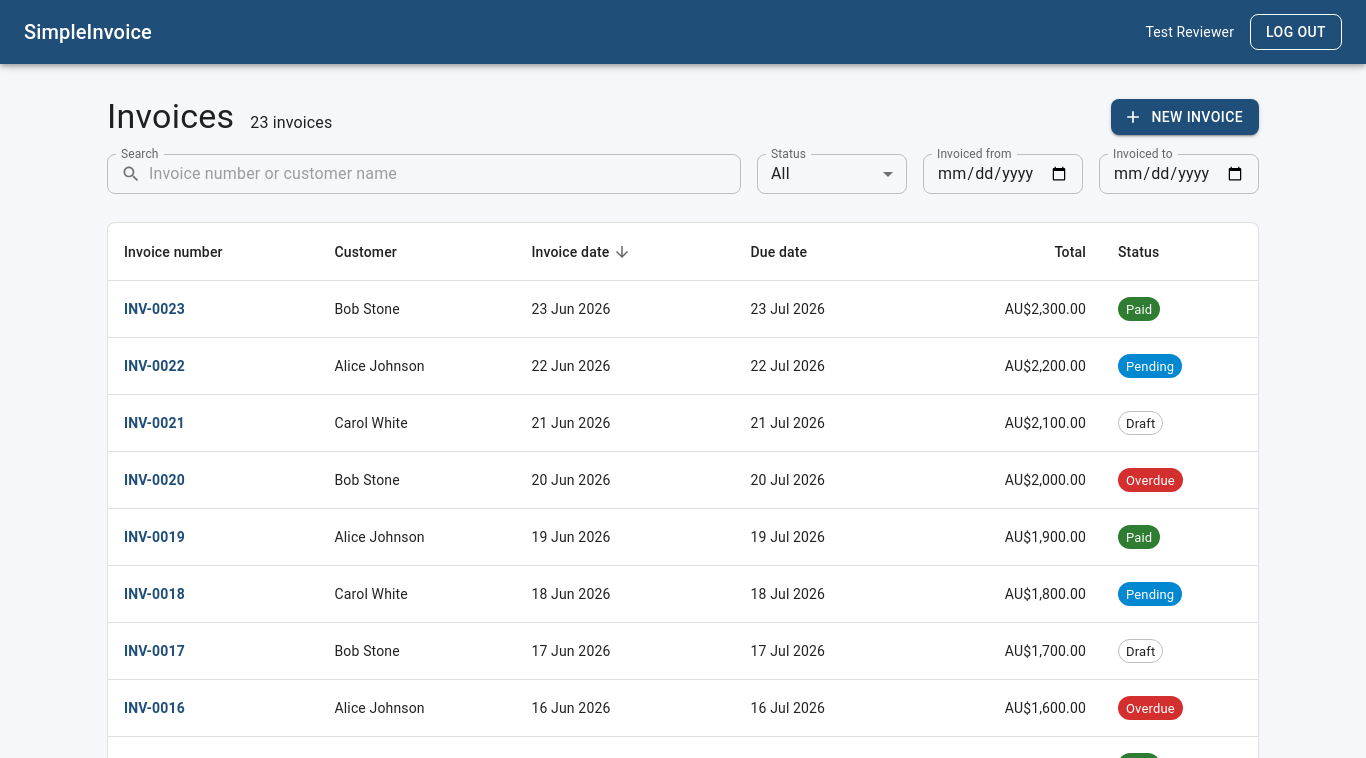
InvoiceListPage › status filter › filters by Draft
Expected: the heading "Invoices" is shown, [107,96,234,138]
Click the dropdown named "Status" at (780, 174), box [771,164,790,184]
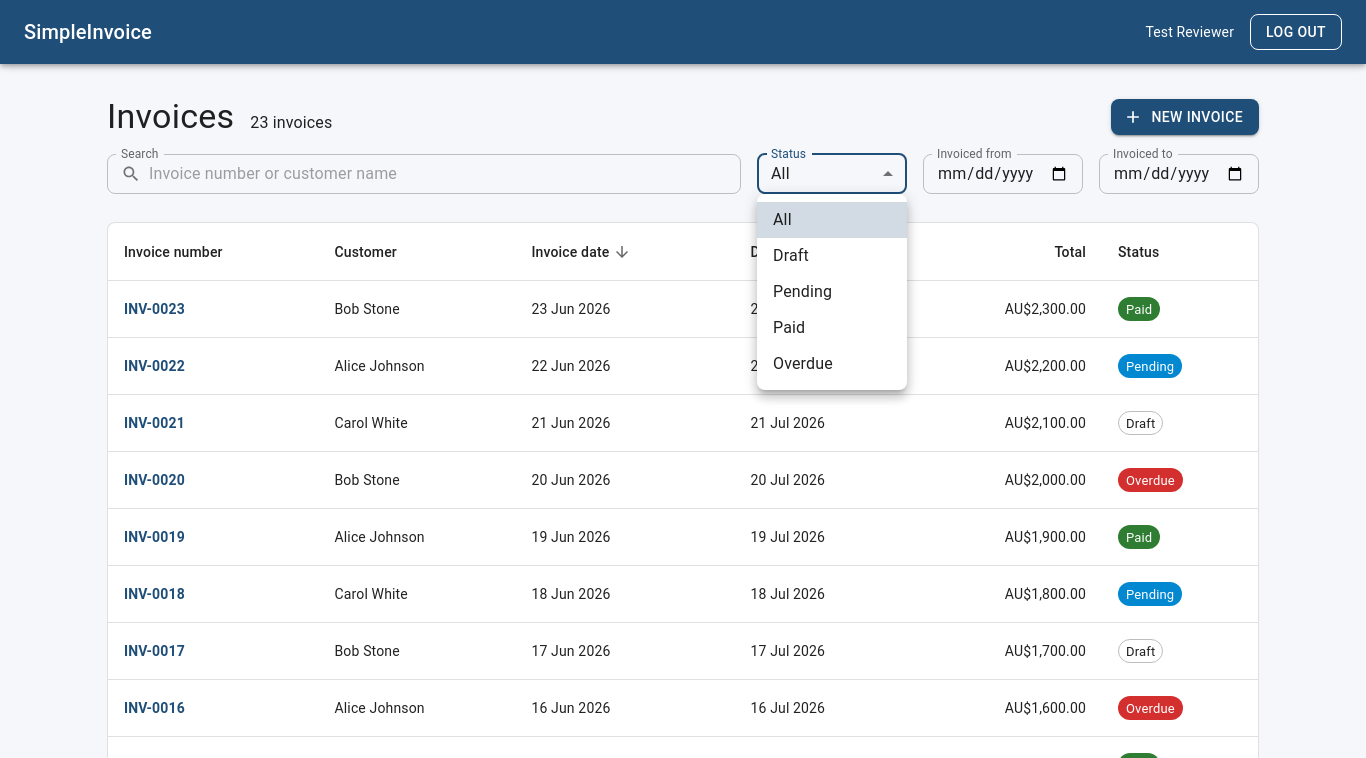
Click the option "Draft" at (791, 256), box [773,246,809,265]
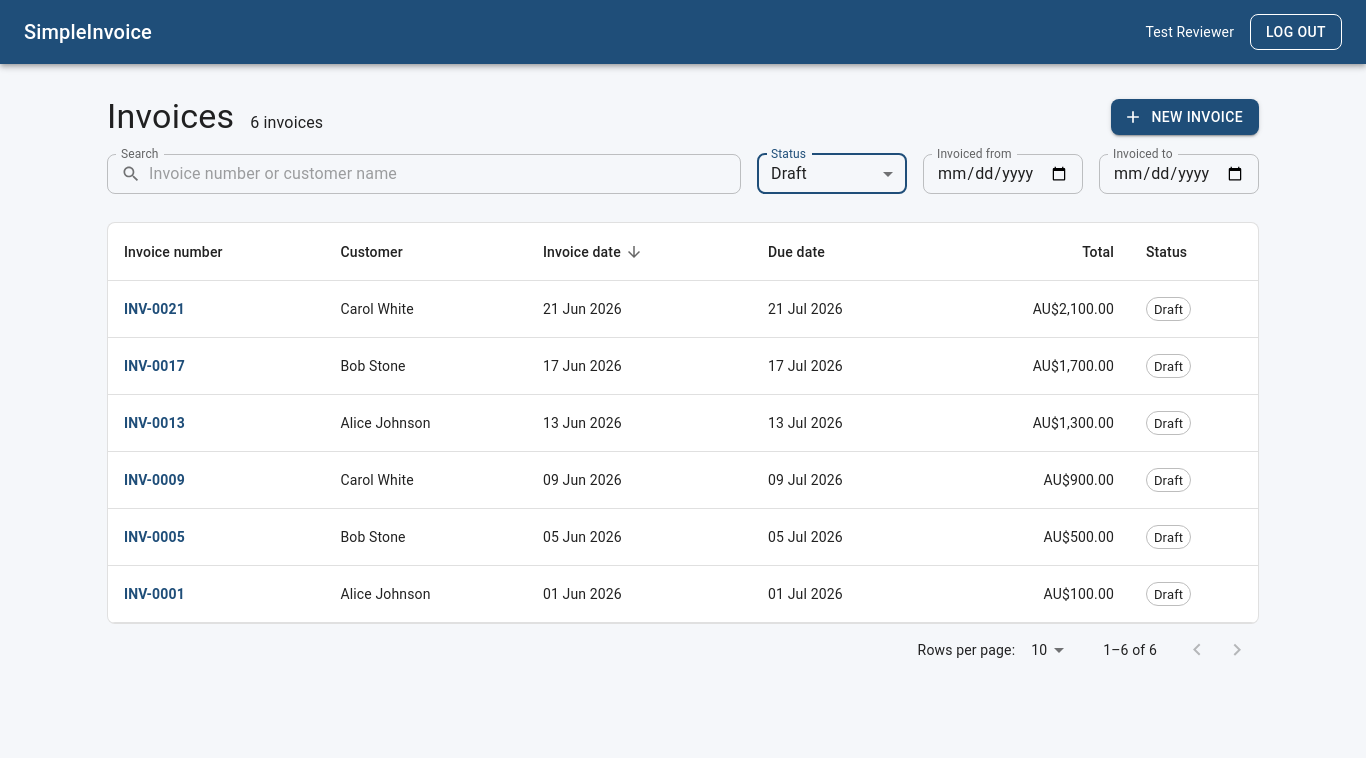
Expected: the dropdown named "Status" reads "Draft", [771,164,807,184]
Expected: the cell "Draft" in the row of "INV-0013" is shown, [1154,416,1183,430]
Expected: the cell "Draft" in the row of "INV-0009" is shown, [1154,472,1183,488]
